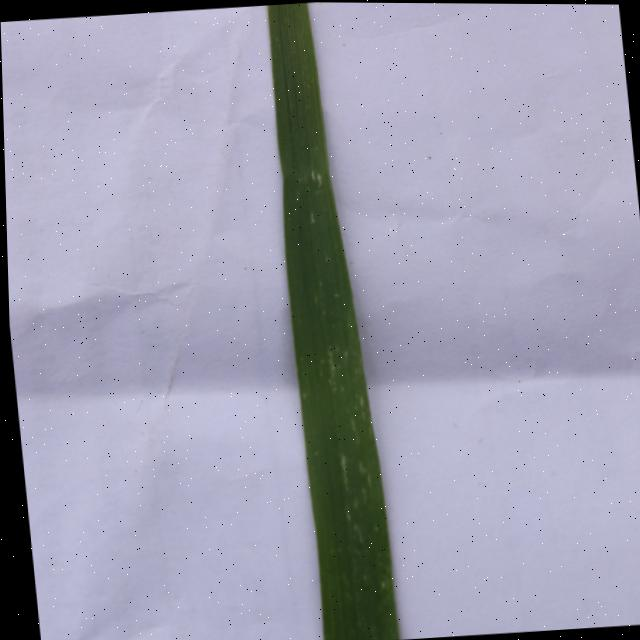healthy_wheat: (228, 1, 444, 640)
